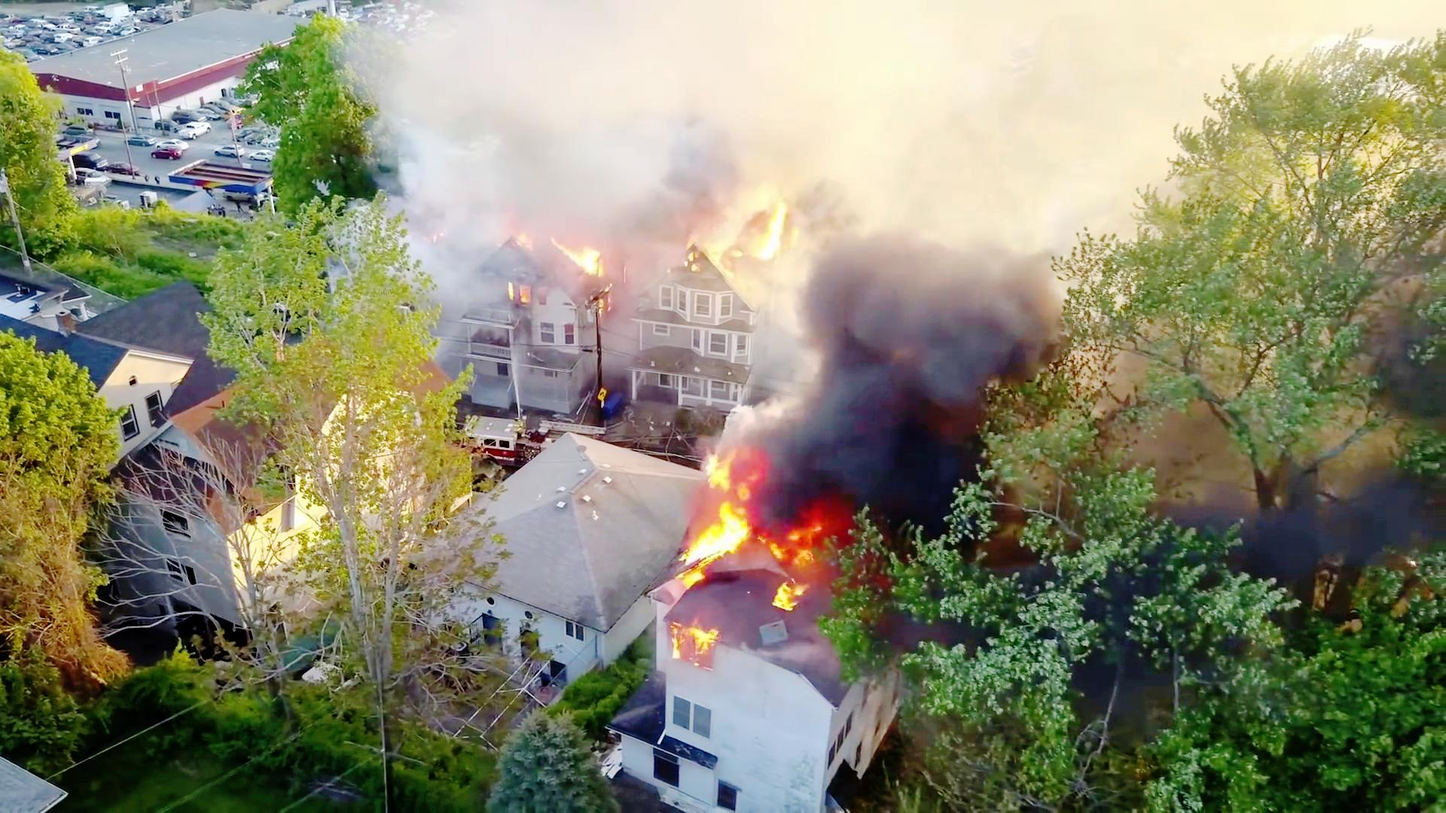fire: (697, 456, 760, 565)
smoke: (797, 187, 1023, 497)
